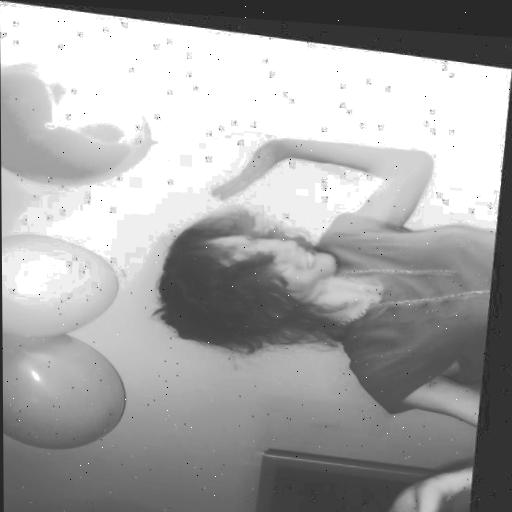balloon: (0, 61, 161, 194), (2, 326, 140, 458), (2, 224, 126, 344)
